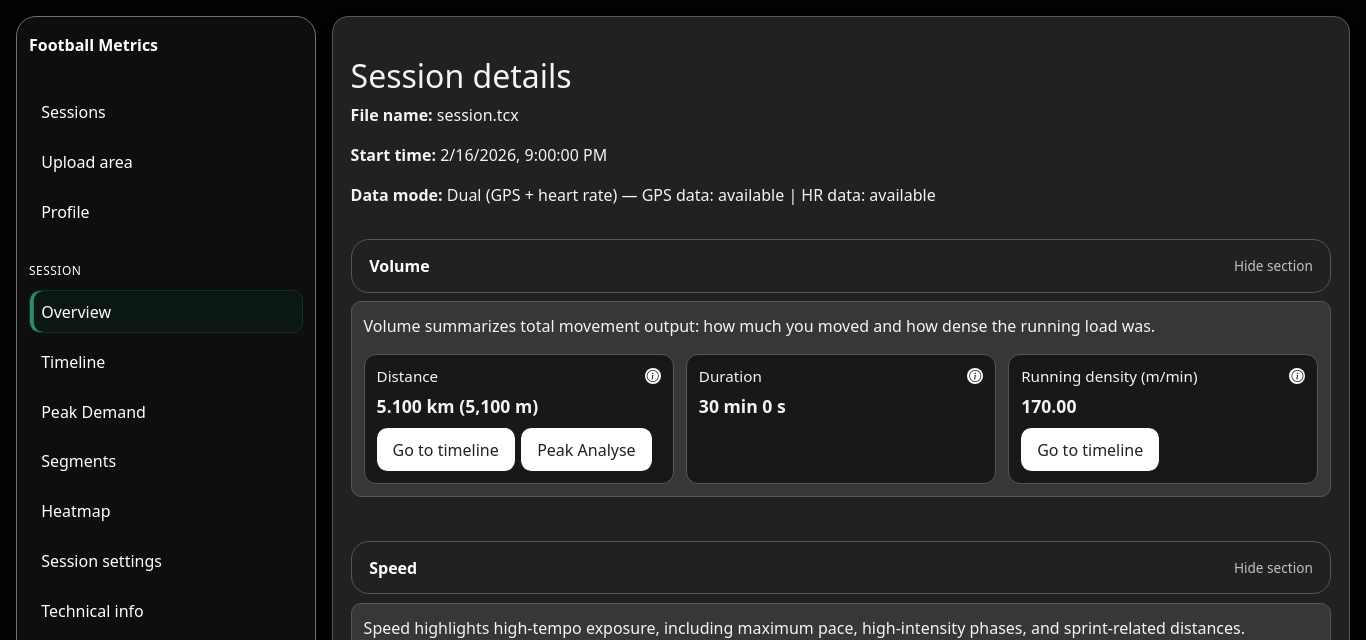
Test: App › R1_5_02_Ac01_Ac02_Ac04_shows_aggregated_intervals_with_window_switch_and_missing_data_marker
The width and height of the screenshot is (1366, 640).
Expected: the heading "Session details" is shown, [351, 54, 572, 97]
Click the button "Timeline": (73,362) [29, 340, 303, 383]
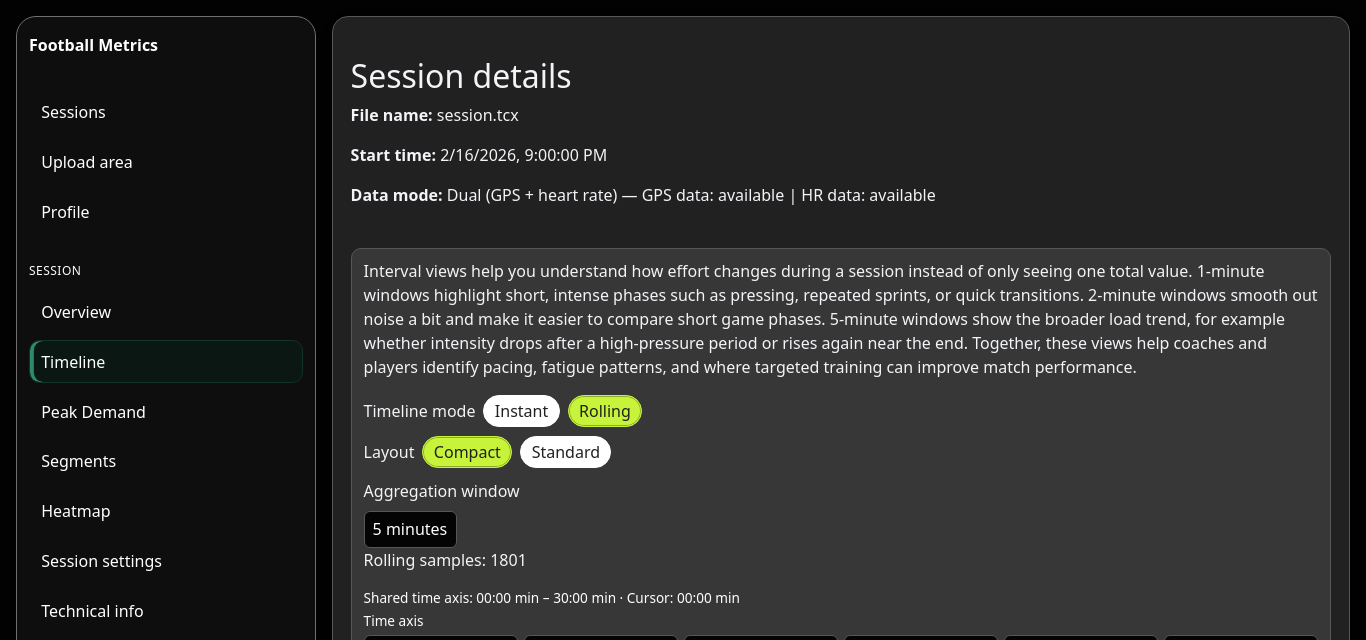
Expected: the text "Timeline mode" is shown, [364, 399, 475, 423]
Expected: the text "Interval views help you understand how effort changes during a session" is shown, [364, 260, 1318, 378]
Expected: the text "Shared time axis: 00:00 min – 30:00 min · Cursor: 00:00 min" is shown, [364, 588, 740, 607]
Click the button "Standard": (566,452) [520, 436, 612, 468]
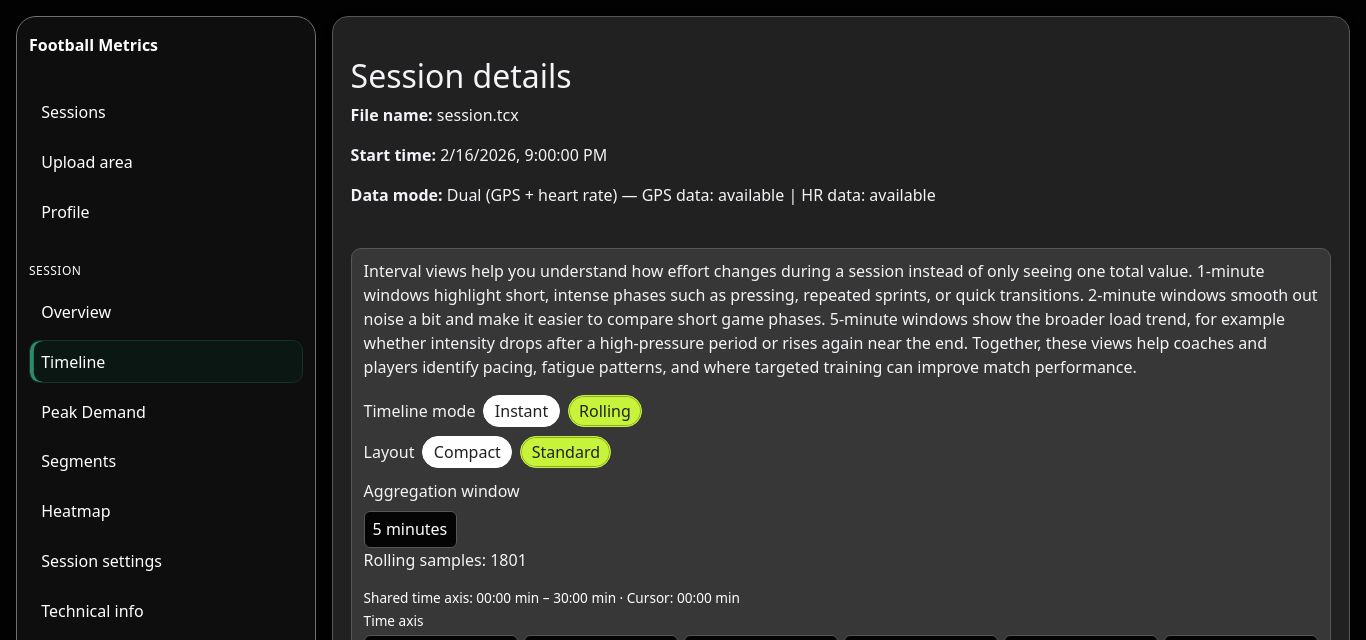
Select "5 minutes" in the dropdown labelled "Aggregation window": (410,529) [364, 511, 457, 548]
Expected: the text "Rolling samples: 1801" is shown, [364, 549, 527, 571]
Click the button "Instant": (522,411) [483, 395, 560, 427]
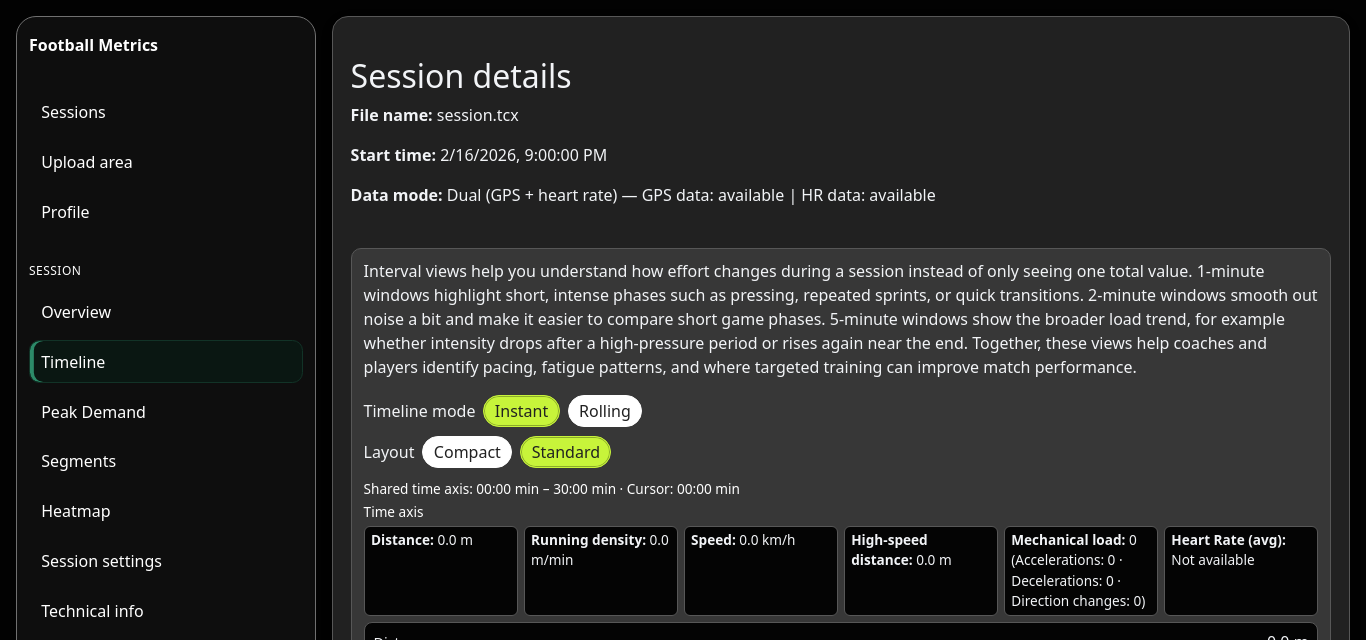
Expected: the label labelled "Aggregation window" is gone
